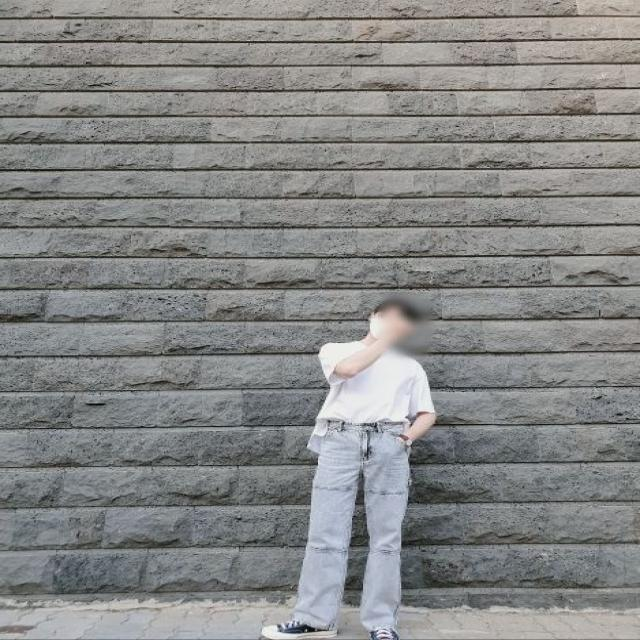denimpants: (292, 418, 416, 635)
shortsleeve: (313, 342, 433, 425)
